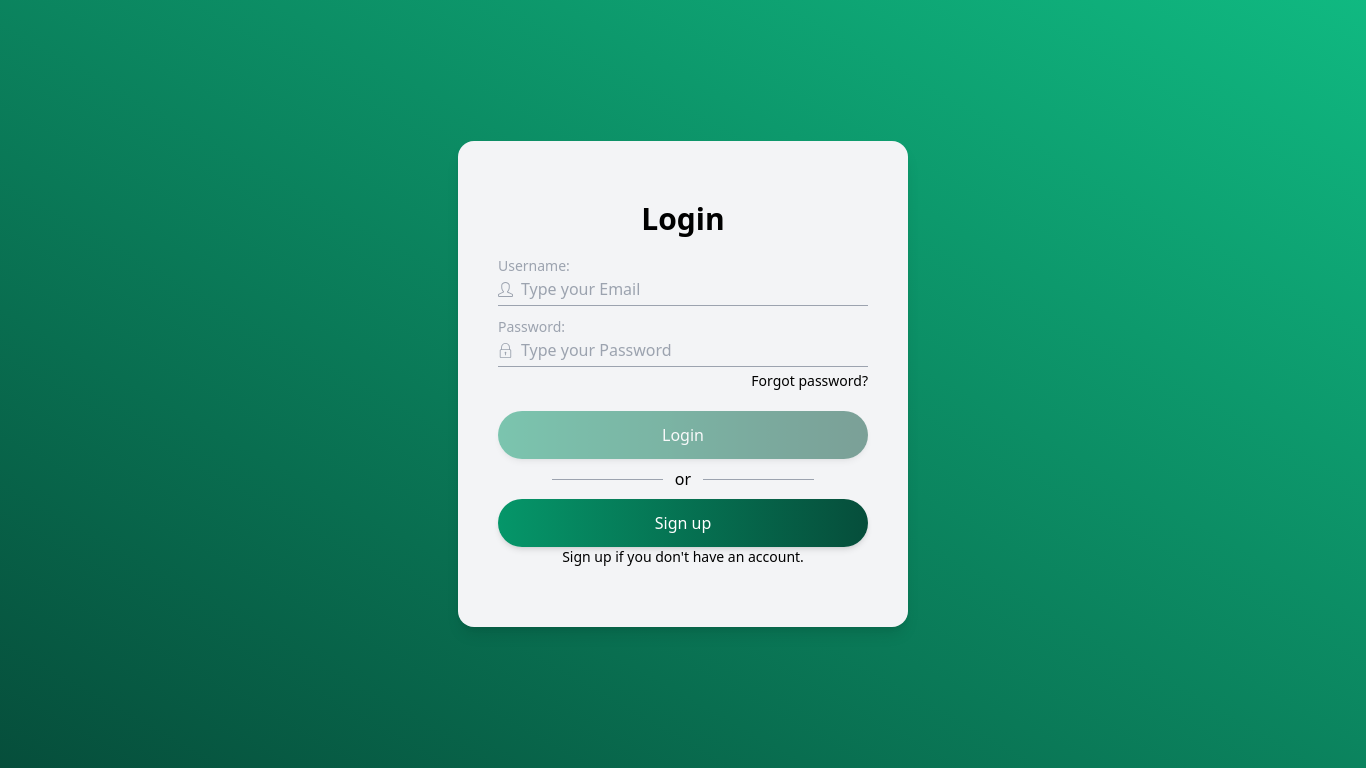
Test: testing if sign-up button work correctly › check logics
The width and height of the screenshot is (1366, 768).
Click the button with test id "sign-up-btn" at (683,523), box [498,499,868,547]
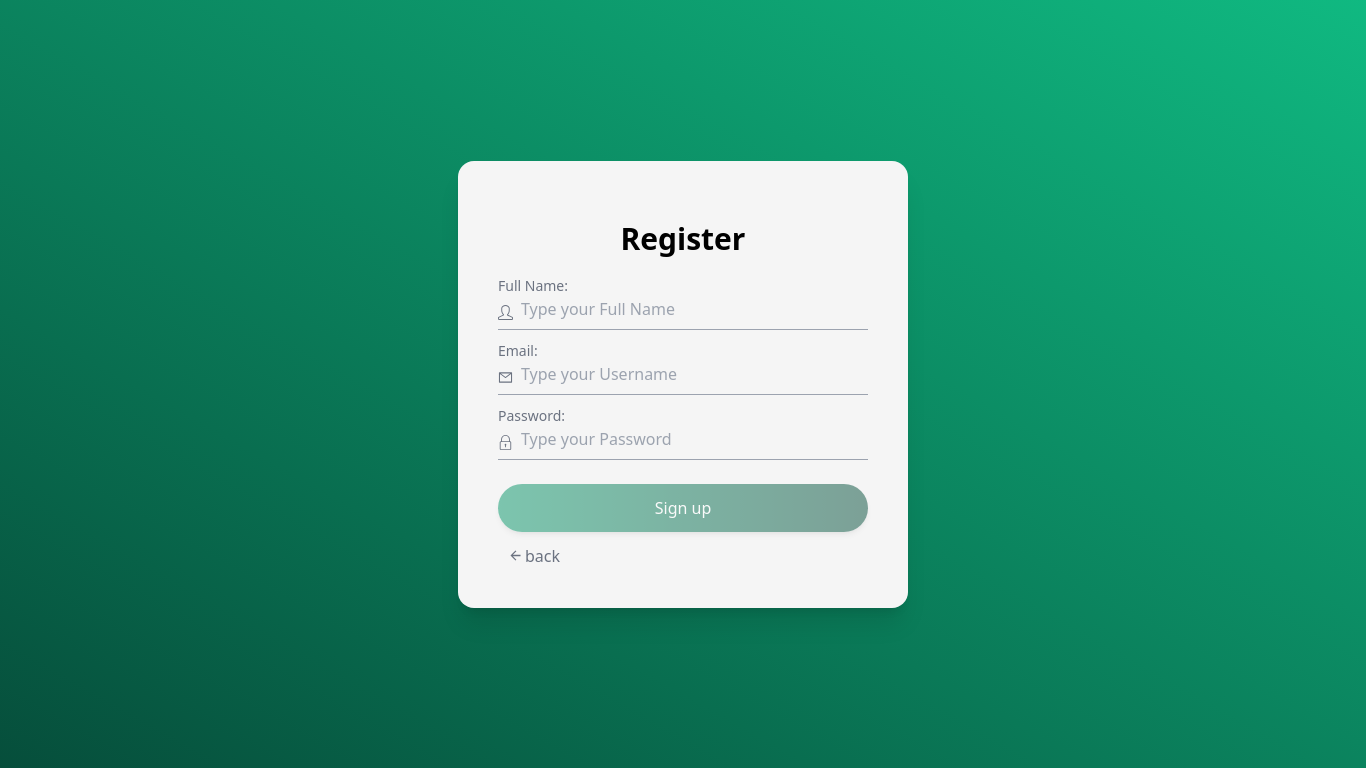
Expected: the heading "Register" is shown, [620,218,746,258]
